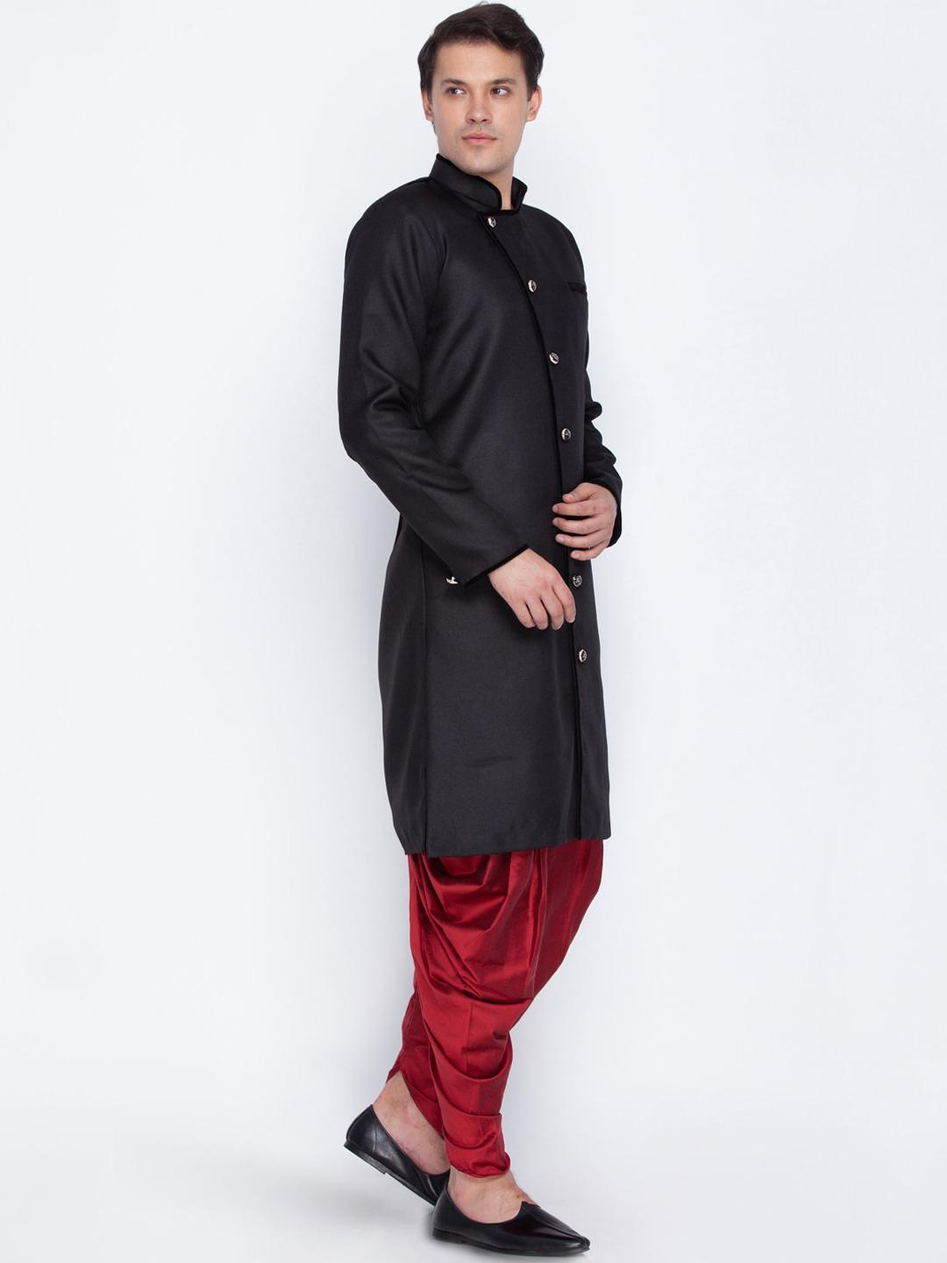Plain Sherwani: (337, 152, 627, 852)
